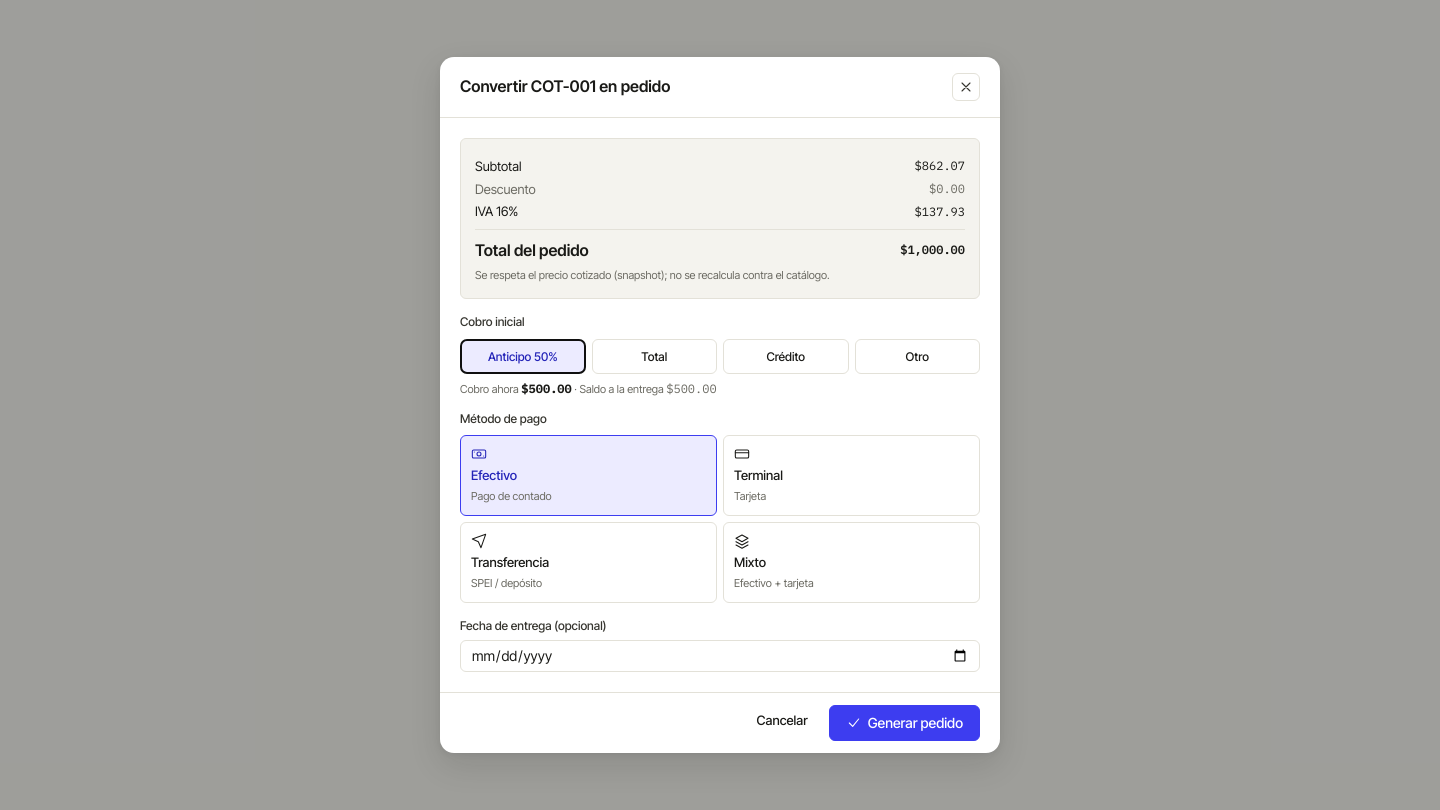
Test case: QuoteConvertModal — bloqueo del CTA › re-bloquea el CTA tras un convert fallido re-derivando el preview
The width and height of the screenshot is (1440, 810).
Click the button "Generar pedido".
click(904, 723)  # box [829,705,980,741]
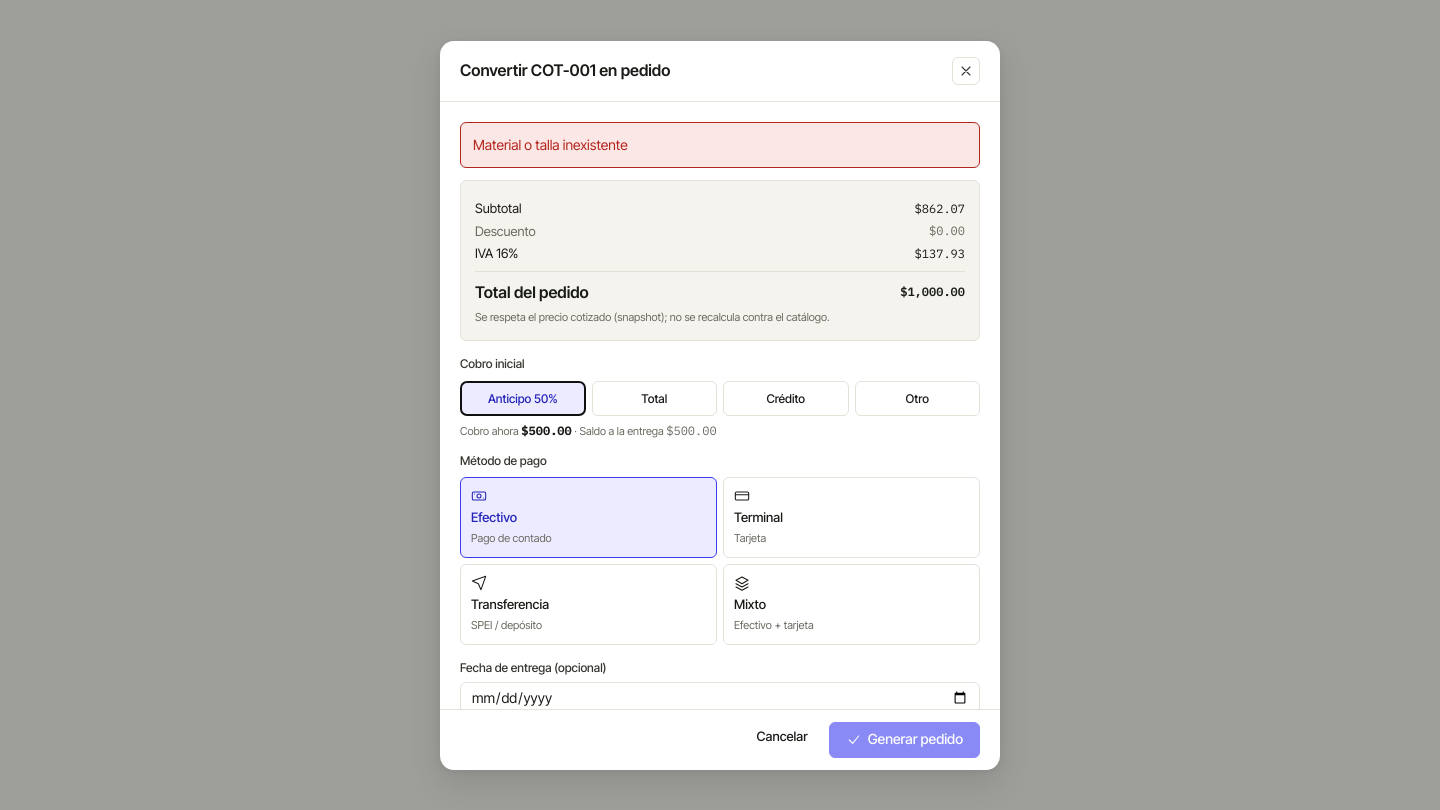
Now the button "Generar pedido" is disabled, box [829,722,980,758]
